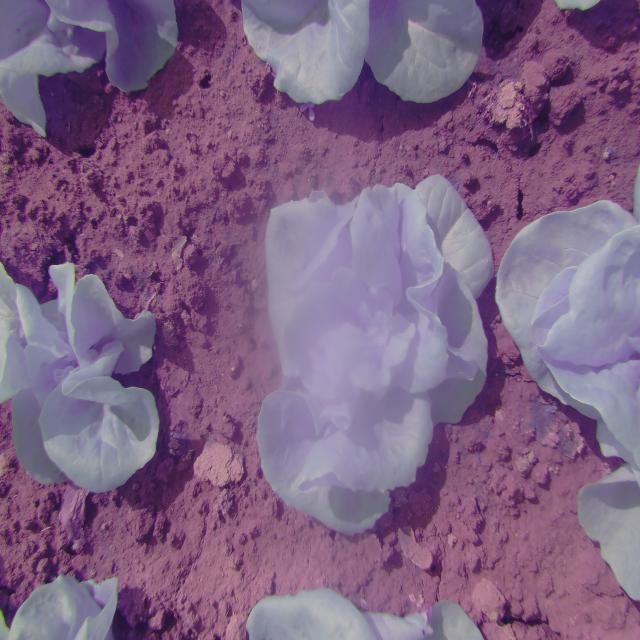vege: (248, 182, 500, 532)
